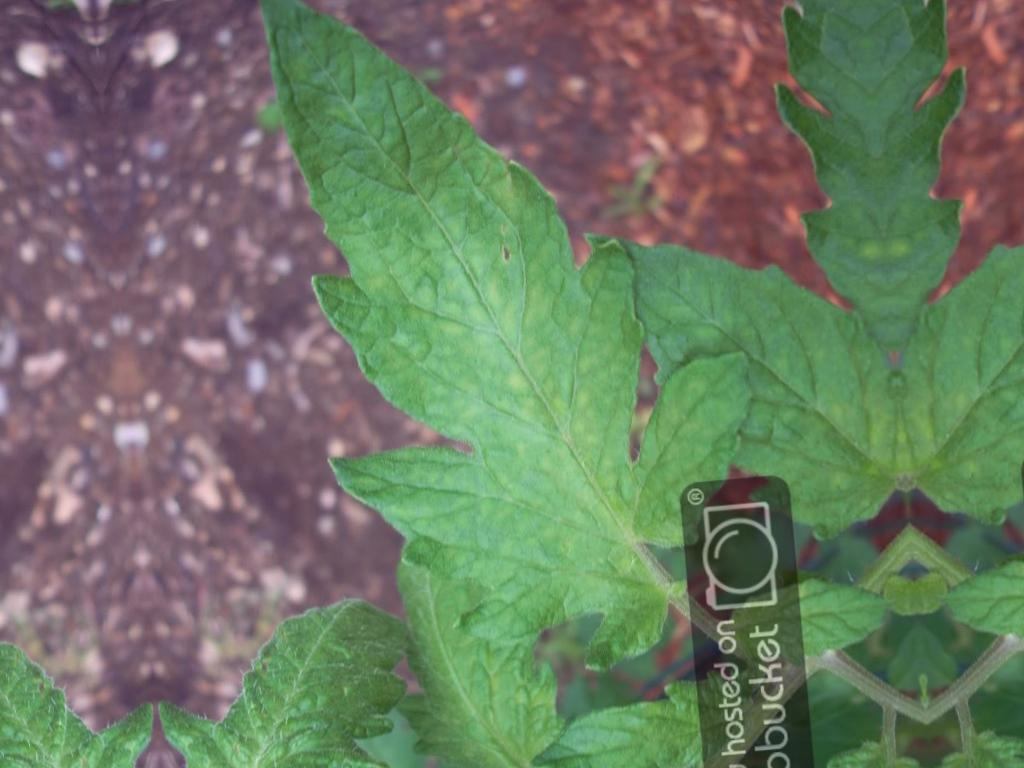Tomato mold leaf: (236, 0, 763, 682)
